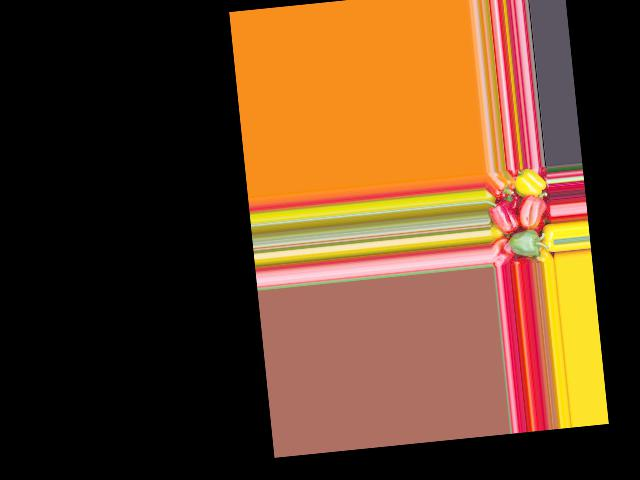bell_pepper: (511, 167, 548, 199)
